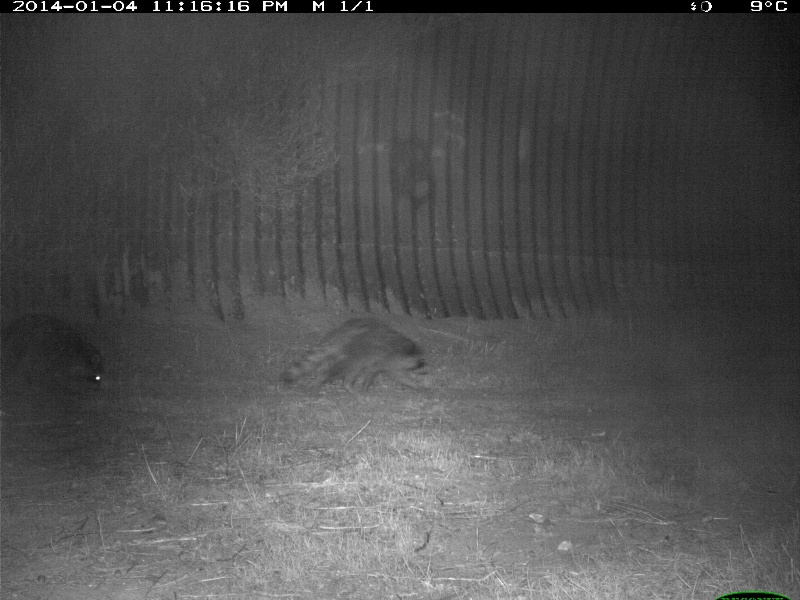raccoon: (279, 314, 434, 391), (3, 310, 107, 394)
